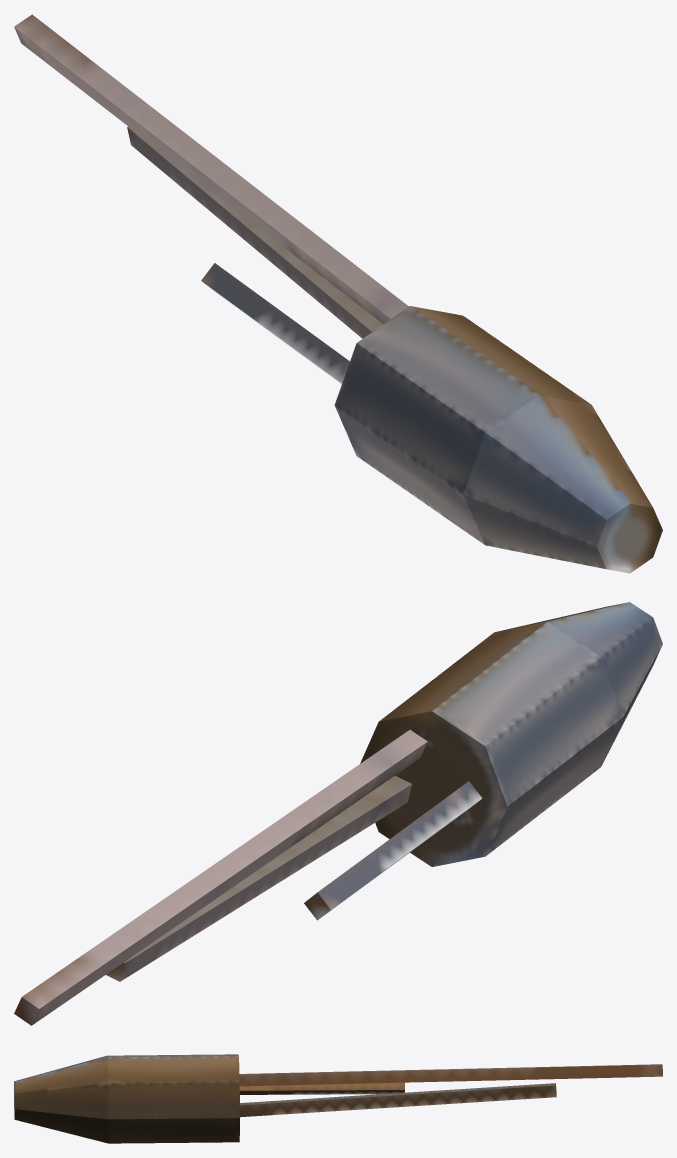
The picture shows the model from 3 angles, top to bottom: view 1: azimuth 30°, elevation 25°; view 2: azimuth 150°, elevation 25°; view 3: azimuth 270°, elevation 25°; orthographic projection. The views are drawn at different scales.
Parts seen in each view (by area): view 1: Bala_Cylinder.003, Estela_1_Cube.006, Estela_3_Cube.008, Estela_2_Cube.007; view 2: Bala_Cylinder.003, Estela_1_Cube.006, Estela_3_Cube.008, Estela_2_Cube.007; view 3: Bala_Cylinder.003, Estela_1_Cube.006, Estela_3_Cube.008, Estela_2_Cube.007.
Boxes of the visible parts, bbox=[...] form: Bala_Cylinder.003: bbox=[334, 306, 662, 573]; Estela_1_Cube.006: bbox=[14, 14, 408, 323]; Estela_3_Cube.008: bbox=[127, 126, 383, 338]; Estela_2_Cube.007: bbox=[201, 263, 349, 383]; Bala_Cylinder.003: bbox=[360, 602, 662, 866]; Estela_1_Cube.006: bbox=[14, 730, 427, 1025]; Estela_3_Cube.008: bbox=[106, 775, 412, 981]; Estela_2_Cube.007: bbox=[304, 781, 482, 920]; Bala_Cylinder.003: bbox=[14, 1054, 239, 1143]; Estela_1_Cube.006: bbox=[239, 1064, 662, 1086]; Estela_3_Cube.008: bbox=[240, 1083, 556, 1117]; Estela_2_Cube.007: bbox=[239, 1082, 404, 1094].
Size of what is drawn, in the model's own units: 0.2897 by 0.2805 by 1.94.
